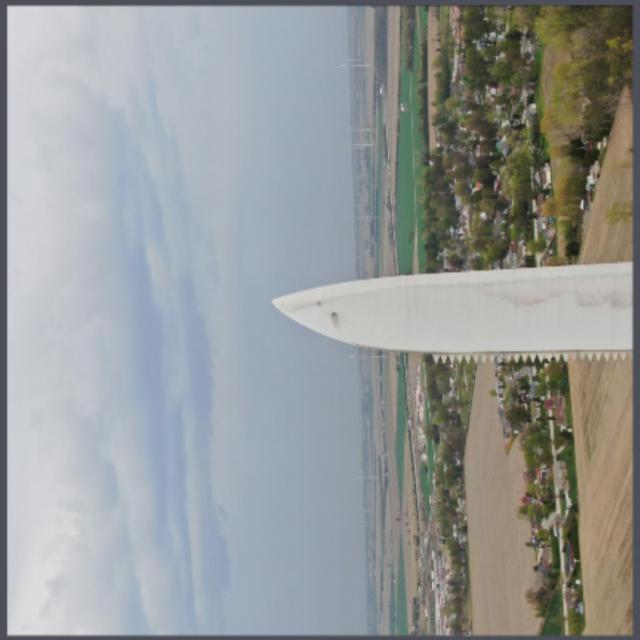Burn Mark: (330, 308, 338, 326)
